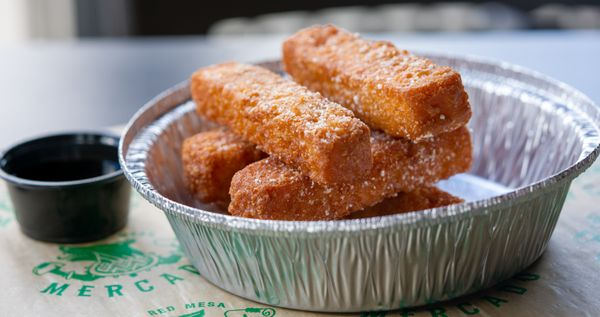pizza: (0, 131, 132, 245)
sushi: (119, 58, 593, 311)
